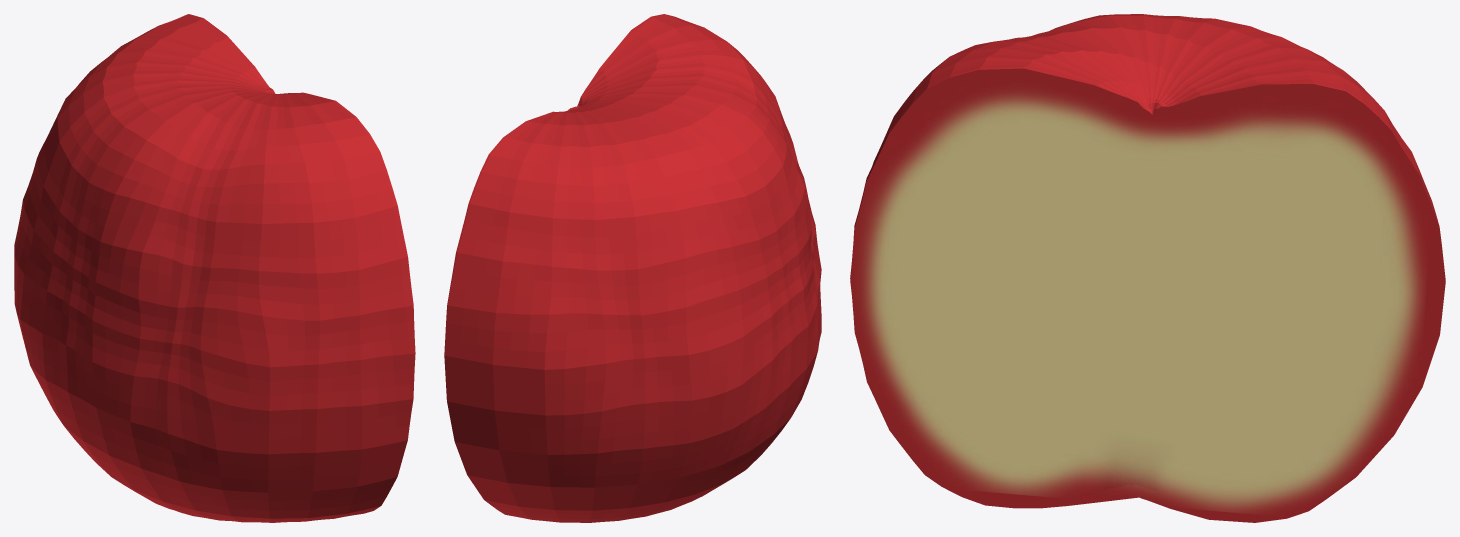
Rendered from applePiece2.fbx.
3 views of the same model, side by side, from view 1: azimuth 30°, elevation 25°; view 2: azimuth 150°, elevation 25°; view 3: azimuth 270°, elevation 25° (orthographic). The views are drawn at different scales.
Parts seen in each view (by area): view 1: applePiece2; view 2: applePiece2; view 3: applePiece2.
Boxes of the visible parts, x1,y1,x2,y2 form: applePiece2: (14,14,415,522); applePiece2: (444,14,821,522); applePiece2: (850,14,1445,522).
Bounding box in the file's own units: 172 × 310 × 368.
